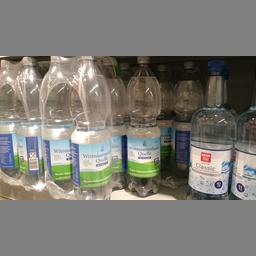water: (185, 60, 233, 198), (68, 55, 110, 198), (120, 54, 161, 196), (38, 56, 76, 198), (12, 58, 44, 188)
